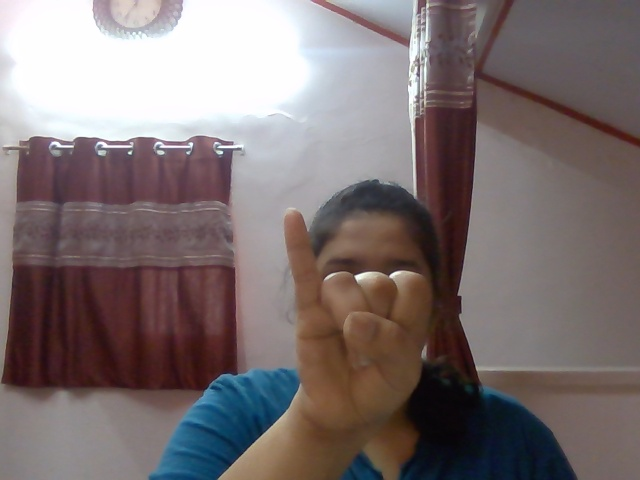i: (260, 196, 443, 396)
